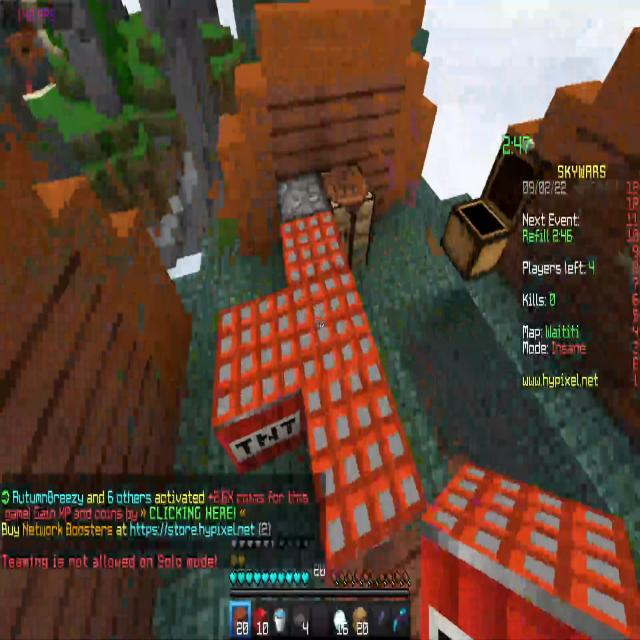Chest: (440, 106, 546, 307)
